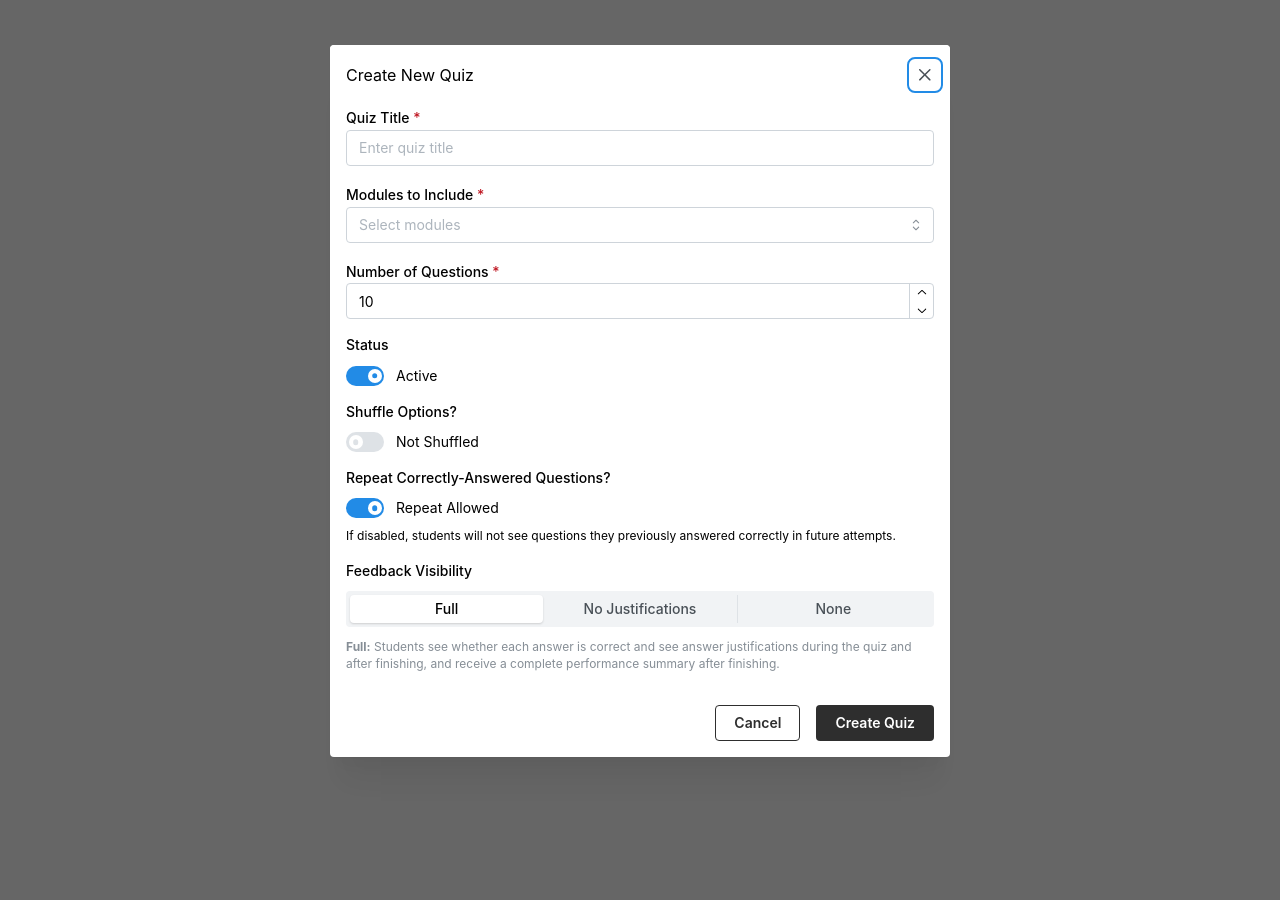
Scenario: EditQuizModal › shows error alert when title is empty and save clicked
Click the button "Create Quiz" at (875, 723), box left=816, top=705, right=934, bottom=741
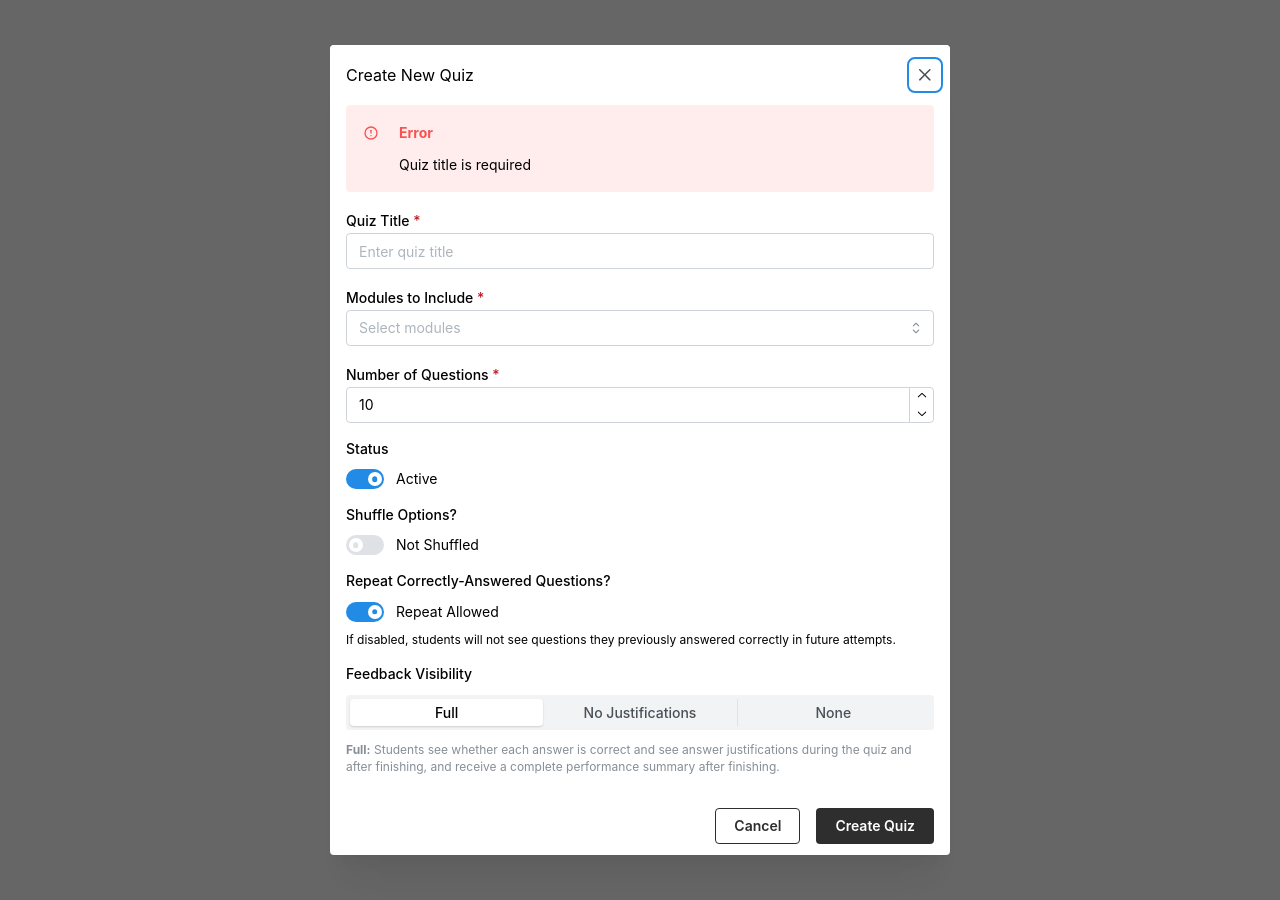
Check: the text "Quiz title is required" is shown, box left=399, top=156, right=531, bottom=173
